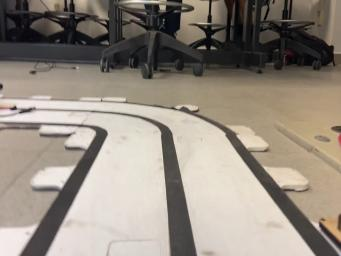street: (0, 98, 341, 256), (0, 98, 341, 256), (0, 98, 341, 256), (0, 98, 341, 256), (0, 98, 341, 256)
